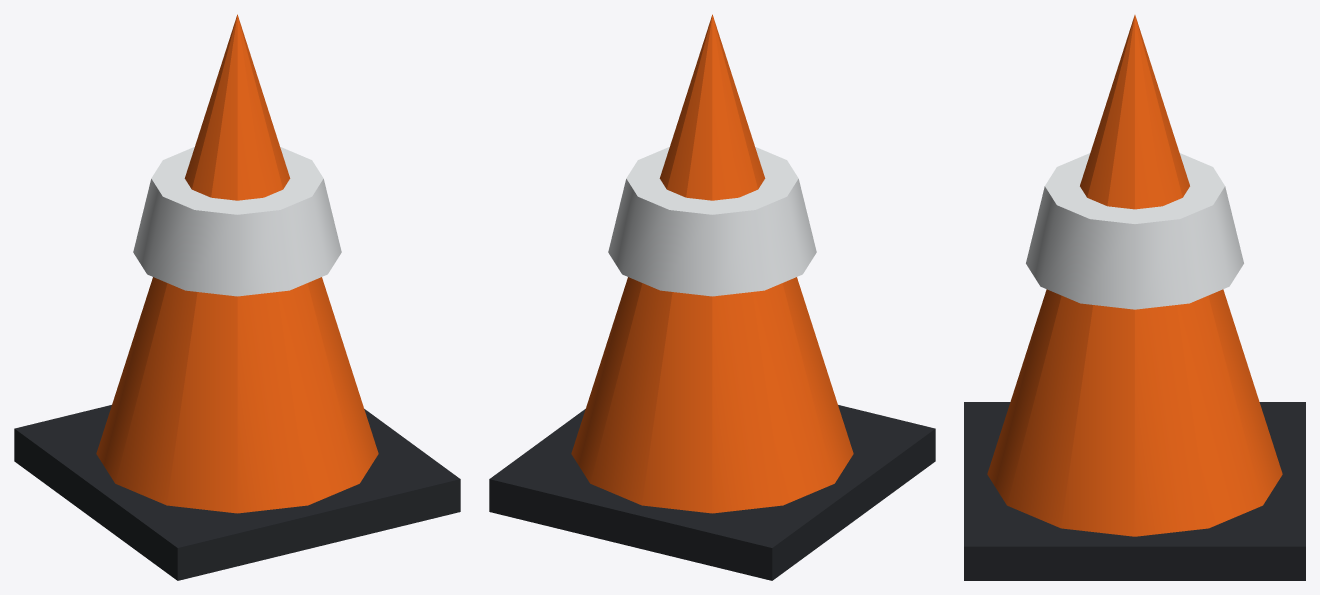
The model's file is traffic-cone.obj.
3 renders of one model, left to right at view 1: azimuth 30°, elevation 25°; view 2: azimuth 150°, elevation 25°; view 3: azimuth 270°, elevation 25°, orthographic. The views are drawn at different scales.
Parts seen in each view (by area): view 1: part1, part3, part2.nocast; view 2: part1, part3, part2.nocast; view 3: part1, part3, part2.nocast.
Boxes of the visible parts, x1,y1,x2,y2 form: part1: (96, 14, 378, 513); part3: (14, 405, 460, 580); part2.nocast: (133, 147, 341, 296); part1: (571, 14, 853, 513); part3: (489, 405, 935, 580); part2.nocast: (608, 147, 816, 296); part1: (987, 15, 1282, 536); part3: (964, 402, 1305, 580); part2.nocast: (1026, 153, 1243, 309).
Bounding box in the file's own units: 0.36 × 0.575 × 0.36.
